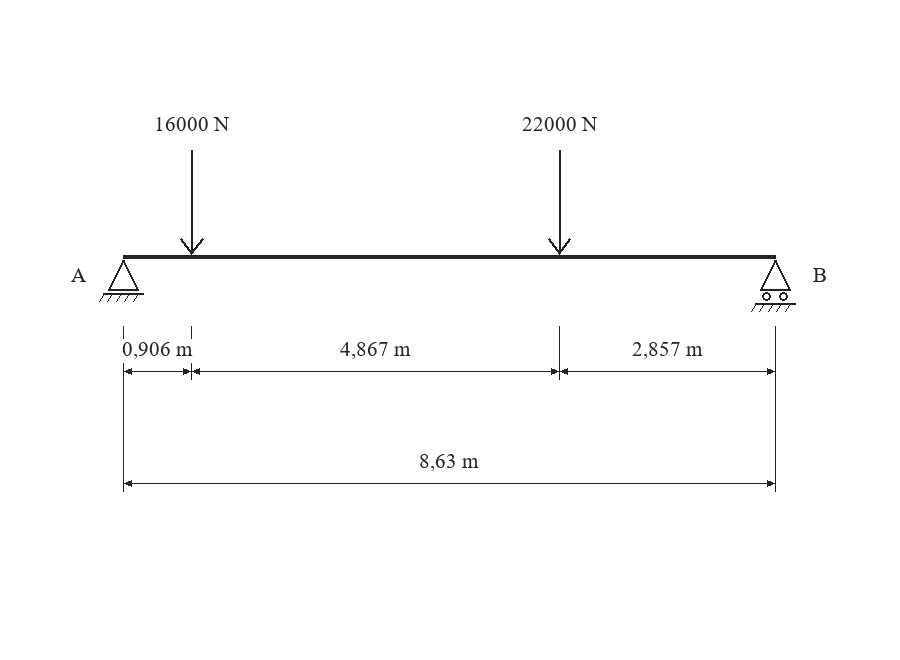pin_support: (99, 260, 144, 302)
point_load: (180, 150, 204, 255), (548, 150, 571, 255)
roller_support: (751, 260, 796, 312)
